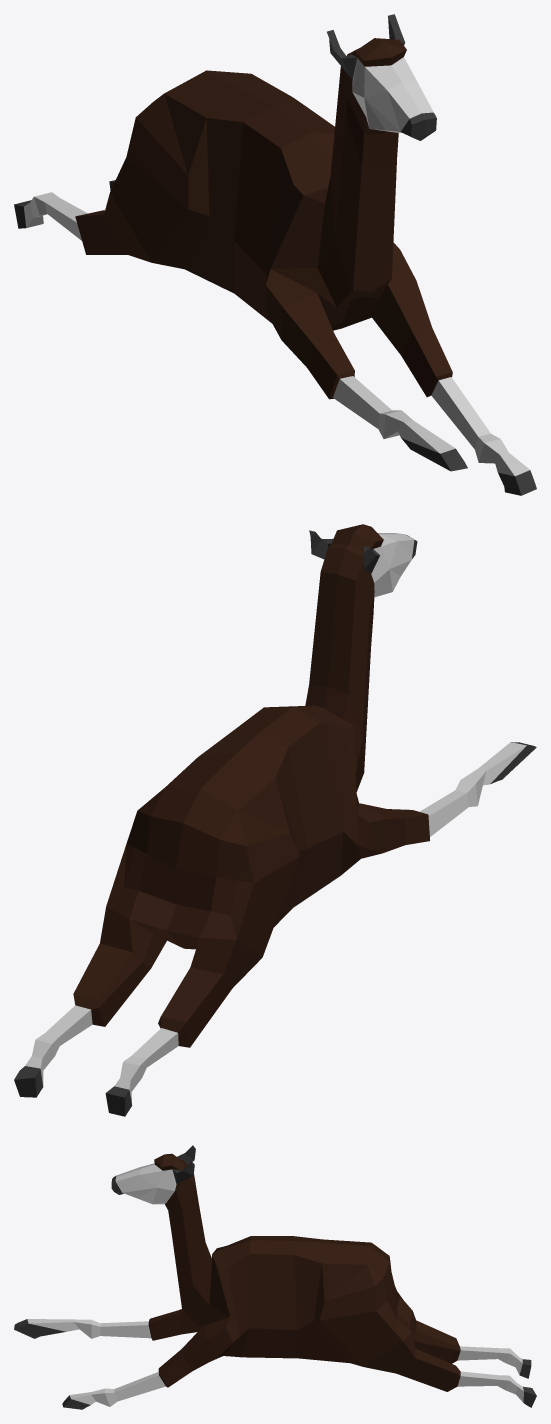
Rendered from Llama__1_000011.obj.
The picture shows the model from 3 angles, top to bottom: view 1: azimuth 30°, elevation 25°; view 2: azimuth 150°, elevation 25°; view 3: azimuth 270°, elevation 25°; orthographic projection. The views are drawn at different scales.
Visible parts, largest first — view 1: Llama_Cylinder; view 2: Llama_Cylinder; view 3: Llama_Cylinder.
Part boxes in pixels (x1,y1,x2,y2): Llama_Cylinder: (14,14,536,495); Llama_Cylinder: (14,524,536,1116); Llama_Cylinder: (14,1145,536,1409).
Bounding box in the file's own units: 1.57 × 4.26 × 8.4.
